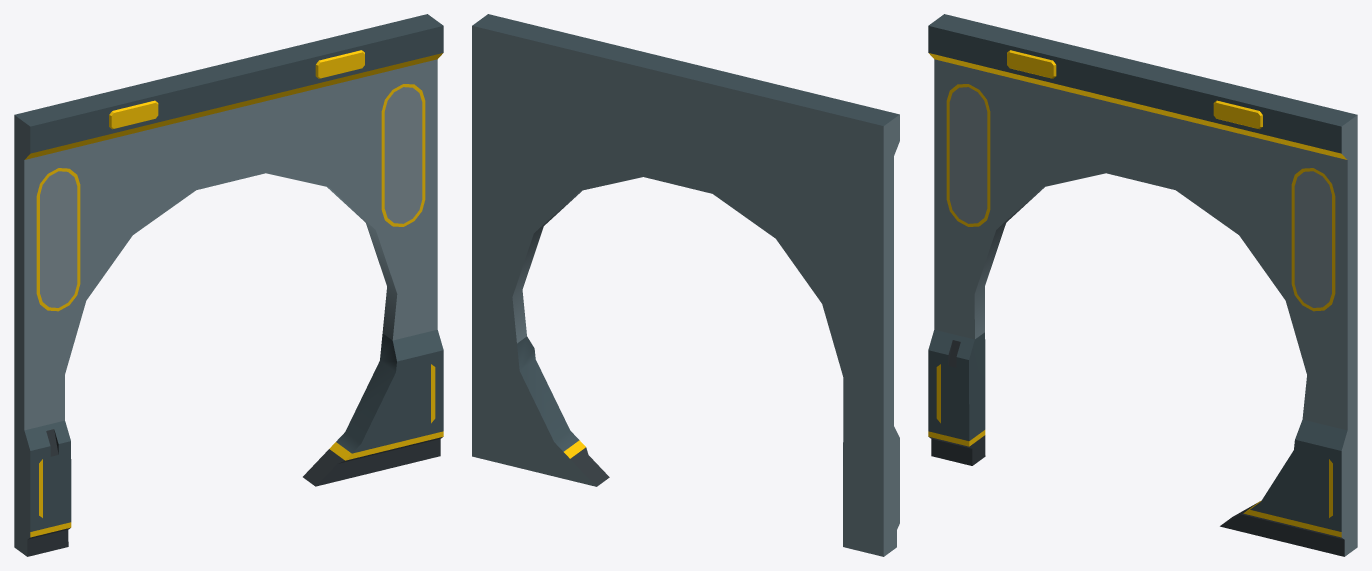
Rendered from Wall_type_C_067.fbx.
3 renders of one model, left to right at view 1: azimuth 30°, elevation 25°; view 2: azimuth 150°, elevation 25°; view 3: azimuth 330°, elevation 25°, orthographic.
Visible parts, largest first — view 1: Wall_type_C_067; view 2: Wall_type_C_067; view 3: Wall_type_C_067.
Part boxes in pixels (box(x1,y1,x2,y2)): Wall_type_C_067: box(14, 14, 443, 556); Wall_type_C_067: box(472, 14, 899, 556); Wall_type_C_067: box(928, 14, 1357, 556).
Size of the model in its own units: 400 by 28.98 by 400.
